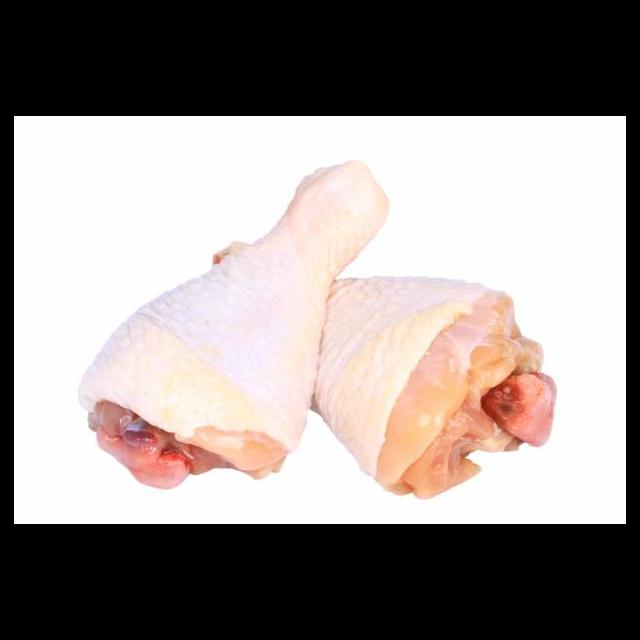chicken: (79, 159, 390, 489), (311, 277, 557, 500)
